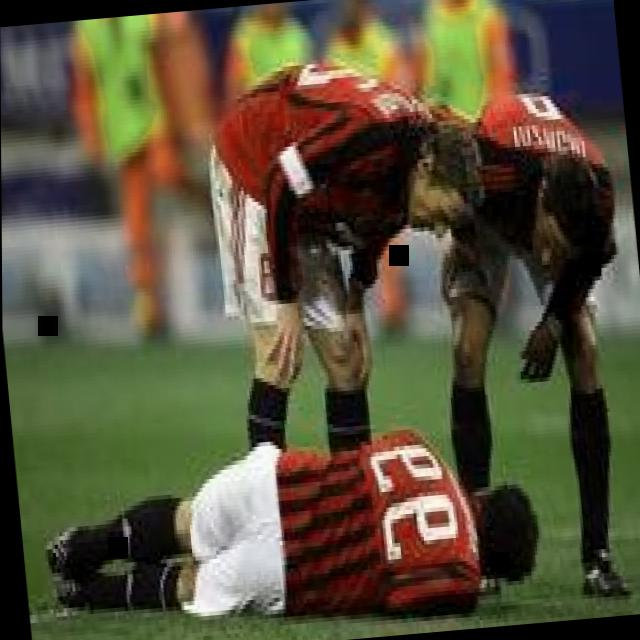Fall-Detected: (24, 387, 548, 638)
